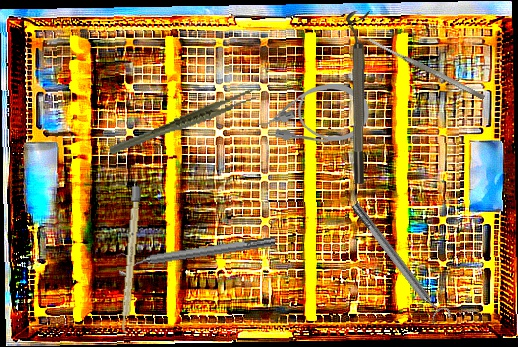Cannula: (256, 83, 370, 144)
Fixation Ring: (345, 196, 455, 330), (116, 230, 277, 277), (343, 10, 370, 185)
Scalpel Handle: (119, 185, 142, 336)
Spatula Surgical: (367, 36, 486, 101)
Tissue Forceps: (103, 88, 262, 156)
